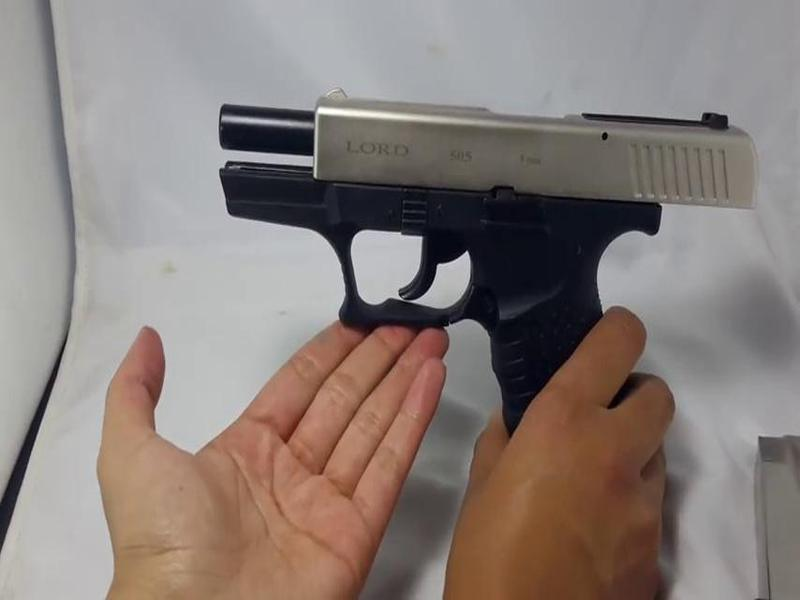Pistola: (204, 88, 761, 449)
